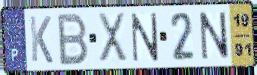2: (169, 11, 196, 62)
B: (57, 11, 91, 67)
K: (28, 14, 55, 65)
N: (198, 11, 232, 62), (130, 12, 160, 64)
X: (96, 11, 129, 65)
